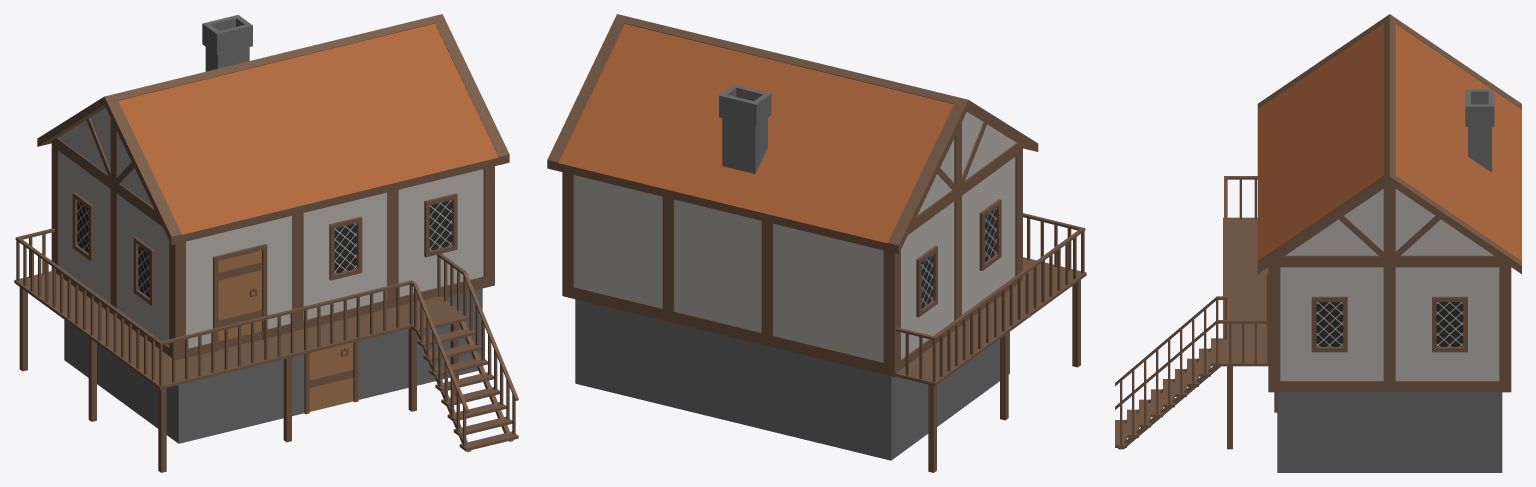
File: SPW_Medieval_Bldg_05.glb
3 views of the same model, side by side, from view 1: azimuth 30°, elevation 25°; view 2: azimuth 150°, elevation 25°; view 3: azimuth 270°, elevation 25° (orthographic). The views are drawn at different scales.
Parts seen in each view (by area): view 1: SPW_Medieval_Bldg_05; view 2: SPW_Medieval_Bldg_05; view 3: SPW_Medieval_Bldg_05.
Part boxes in pixels (x1,y1,x2,y2): SPW_Medieval_Bldg_05: [14, 14, 518, 472]; SPW_Medieval_Bldg_05: [547, 14, 1086, 472]; SPW_Medieval_Bldg_05: [1115, 14, 1521, 472].
Size of the model in its own units: 6.95 by 5.6 by 6.78.
Materials: 1 (1 with a texture image).
